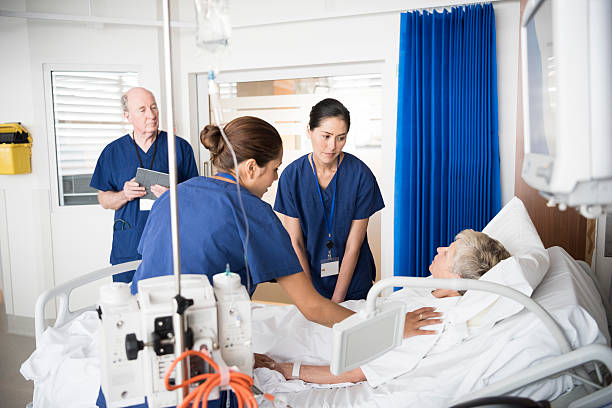bedside_monitor: (328, 298, 407, 377)
curtain: (397, 1, 503, 290)
foot_board: (34, 253, 143, 350)
hospital_bed: (31, 206, 612, 408)
iv_pole: (148, 1, 199, 408)
patient: (255, 225, 510, 380)
staff: (131, 116, 442, 408), (270, 99, 386, 302), (90, 86, 199, 279)
